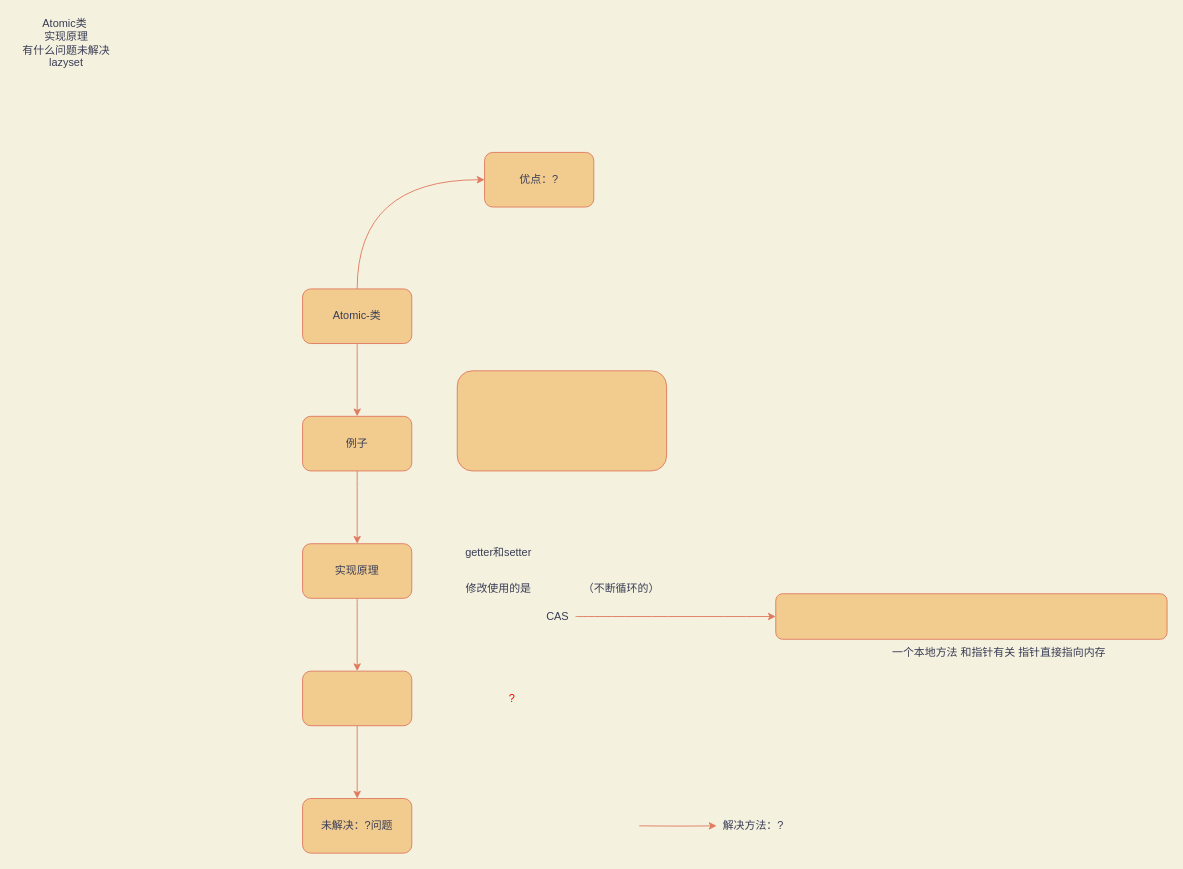
This 1183x869 diagram has some shape labels left out. The shapes that lost their labels are listed below. From the top down, each one's box as (x1, y1, x2, y2) in pixels, then its label:
(456, 370, 667, 471): AtomicInteger 数组类是? Long Boolean 除了数字类型之外还有?
(775, 593, 1167, 639): return unsafe.compareAndSwapInt(this,valueOffset,expect,update)
(302, 670, 412, 726): 使用/具体方法
